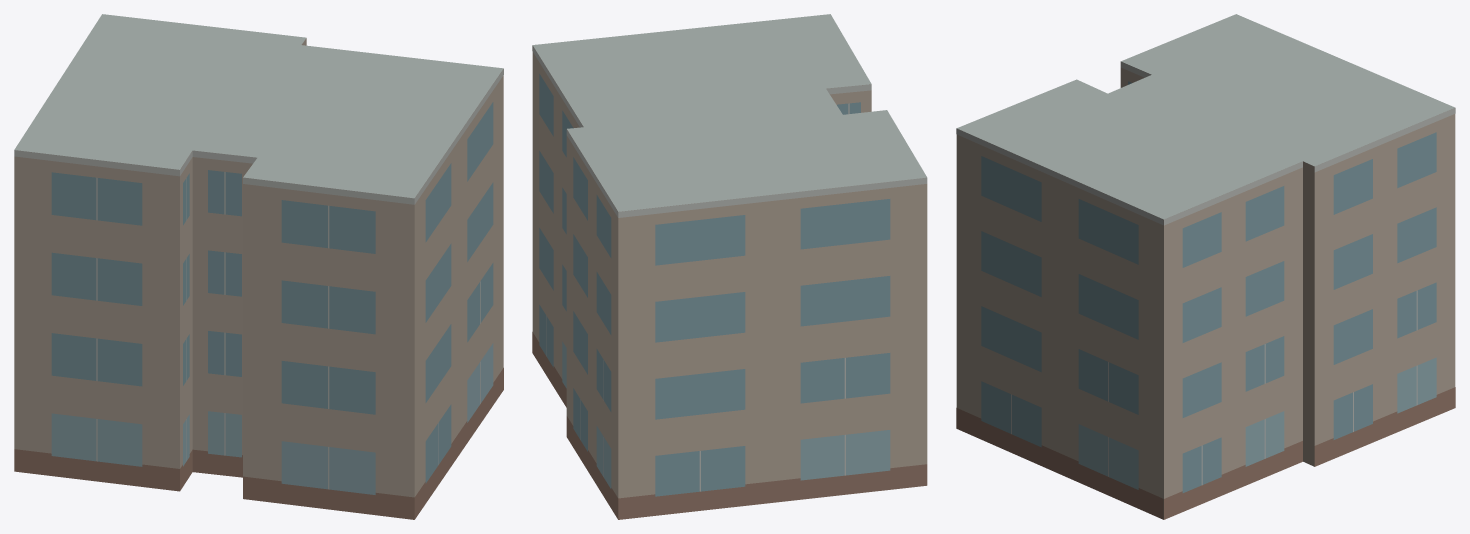
Rendered from survey-upis-32656778.glb.
3 renders of one model, left to right at view 1: azimuth 30°, elevation 25°; view 2: azimuth 150°, elevation 25°; view 3: azimuth 270°, elevation 25°, orthographic. The views are drawn at different scales.
Parts seen in each view (by area): view 1: survey-upis-32656778.tmp; view 2: survey-upis-32656778.tmp; view 3: survey-upis-32656778.tmp.
Part boxes in pixels (bbox=[...]): survey-upis-32656778.tmp: bbox=[14, 14, 503, 519]; survey-upis-32656778.tmp: bbox=[532, 14, 927, 519]; survey-upis-32656778.tmp: bbox=[956, 14, 1455, 519].
Bounding box in the file's own units: 17.82 × 12.14 × 18.28.
